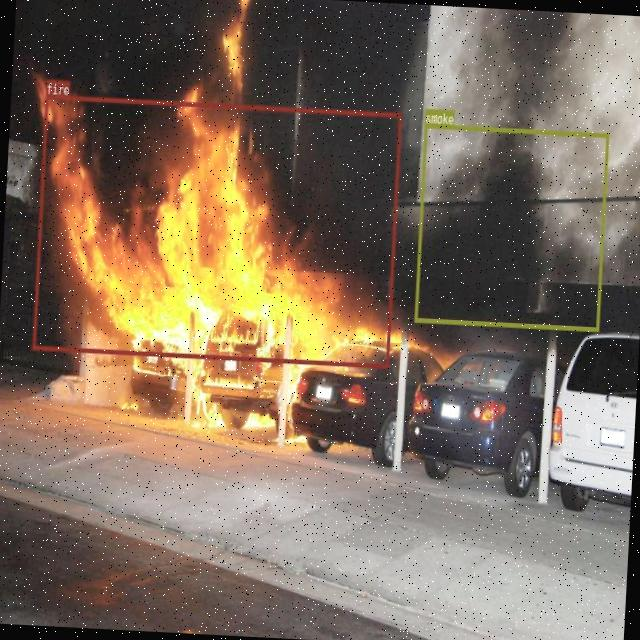fire: (31, 95, 402, 368)
smoke: (414, 124, 609, 330)
